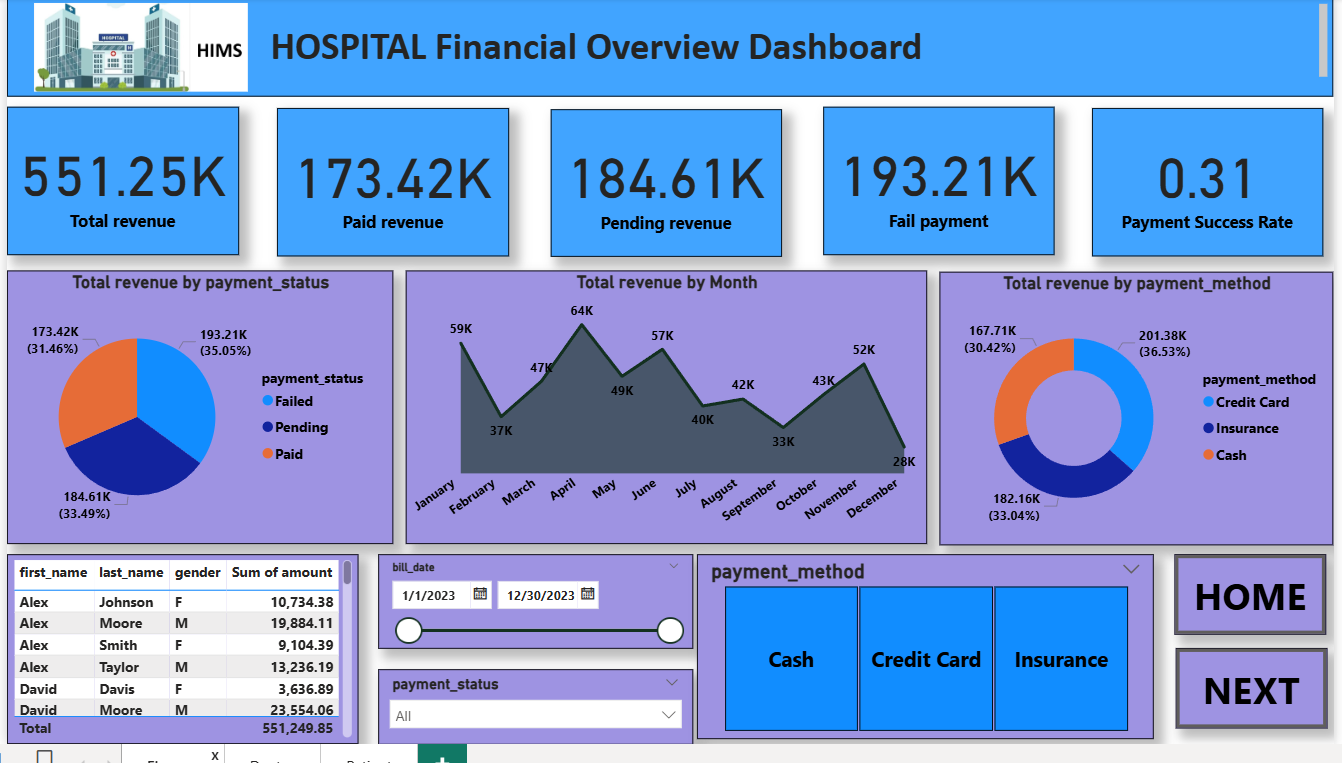

The dashboard page shown, as its layout file describes it:
{"tool":"powerbi","page":{"name":"Finance","canvas":[1280,720],"ordinal":0},"visuals":[{"type":"card","fields":{"Values":["billing.Total revenue"]},"box":[0,105.2,223.8,143.1],"z":0},{"type":"textbox","box":[0,0,1280.3,95.4],"z":1000},{"type":"image","box":[8.6,0,242.1,95.4],"z":2000},{"type":"card","fields":{"Values":["billing.Paid revenue"]},"box":[260.6,106.2,224.4,143.6],"z":3000},{"type":"card","fields":{"Values":["billing.Pending revenue"]},"box":[524.8,107.4,223.2,142.4],"z":4000},{"type":"card","fields":{"Values":["billing.Payment Success Rate"]},"box":[1047.2,106.2,223.2,143.6],"z":5000},{"type":"card","fields":{"Values":["billing.Fail payment"]},"box":[787.8,105,223.2,143.6],"z":6000},{"type":"pieChart","fields":{"Y":["billing.Total revenue"],"Category":["billing.payment_status"]},"box":[0,263,372.8,264.2],"z":7000},{"type":"lineChart","fields":{"Y":["billing.Total revenue"],"Category":["billing.bill_date.Variation.Date Hierarchy.Month"]},"box":[384.9,263,503.1,264.2],"z":8000},{"type":"donutChart","fields":{"Y":["billing.Total revenue"],"Category":["billing.payment_method"]},"box":[900,264.2,380,264.2],"z":9000},{"type":"tableEx","fields":{"Values":["patients.first_name","patients.last_name","patients.gender","Sum(billing.amount)"]},"box":[0,536.9,339,183.4],"z":10000},{"type":"slicer","fields":{"Values":["billing.bill_date"]},"box":[358.7,537.4,303.6,91.4],"z":11000},{"type":"actionButton","title":"HOME","box":[1127.1,537.4,146.4,77.9],"z":12000},{"type":"slicer","fields":{"Values":["billing.payment_status"]},"box":[358.7,647.5,303.6,72.5],"z":13000},{"type":"slicer","fields":{"Values":["billing.payment_method"]},"box":[666.3,537.4,440.6,178.7],"z":14000},{"type":"actionButton","title":"HOME","box":[1128.5,627.4,146.4,77.9],"z":15000}]}

Visuals, with their boxes in screenshot pixels (x1, y1, x2, y2), scaled from the page's 1280x720 canvas onto the 1342x763 screenshot:
card - billing.Total revenue: region(0, 111, 235, 263)
textbox: region(0, 0, 1341, 101)
image: region(9, 0, 263, 101)
card - billing.Paid revenue: region(273, 113, 508, 265)
card - billing.Pending revenue: region(550, 114, 784, 265)
card - billing.Payment Success Rate: region(1098, 113, 1332, 265)
card - billing.Fail payment: region(826, 111, 1060, 263)
pieChart - billing.Total revenue x billing.payment_status: region(0, 279, 391, 559)
lineChart - billing.Total revenue x billing.bill_date.Variation.Date Hierarchy.Month: region(404, 279, 931, 559)
donutChart - billing.Total revenue x billing.payment_method: region(944, 280, 1341, 560)
tableEx - patients.first_name x patients.last_name: region(0, 569, 355, 762)
slicer - billing.bill_date: region(376, 569, 694, 666)
"HOME" actionButton: region(1182, 569, 1335, 652)
slicer - billing.payment_status: region(376, 686, 694, 762)
slicer - billing.payment_method: region(699, 569, 1161, 759)
"HOME" actionButton: region(1183, 665, 1337, 747)
